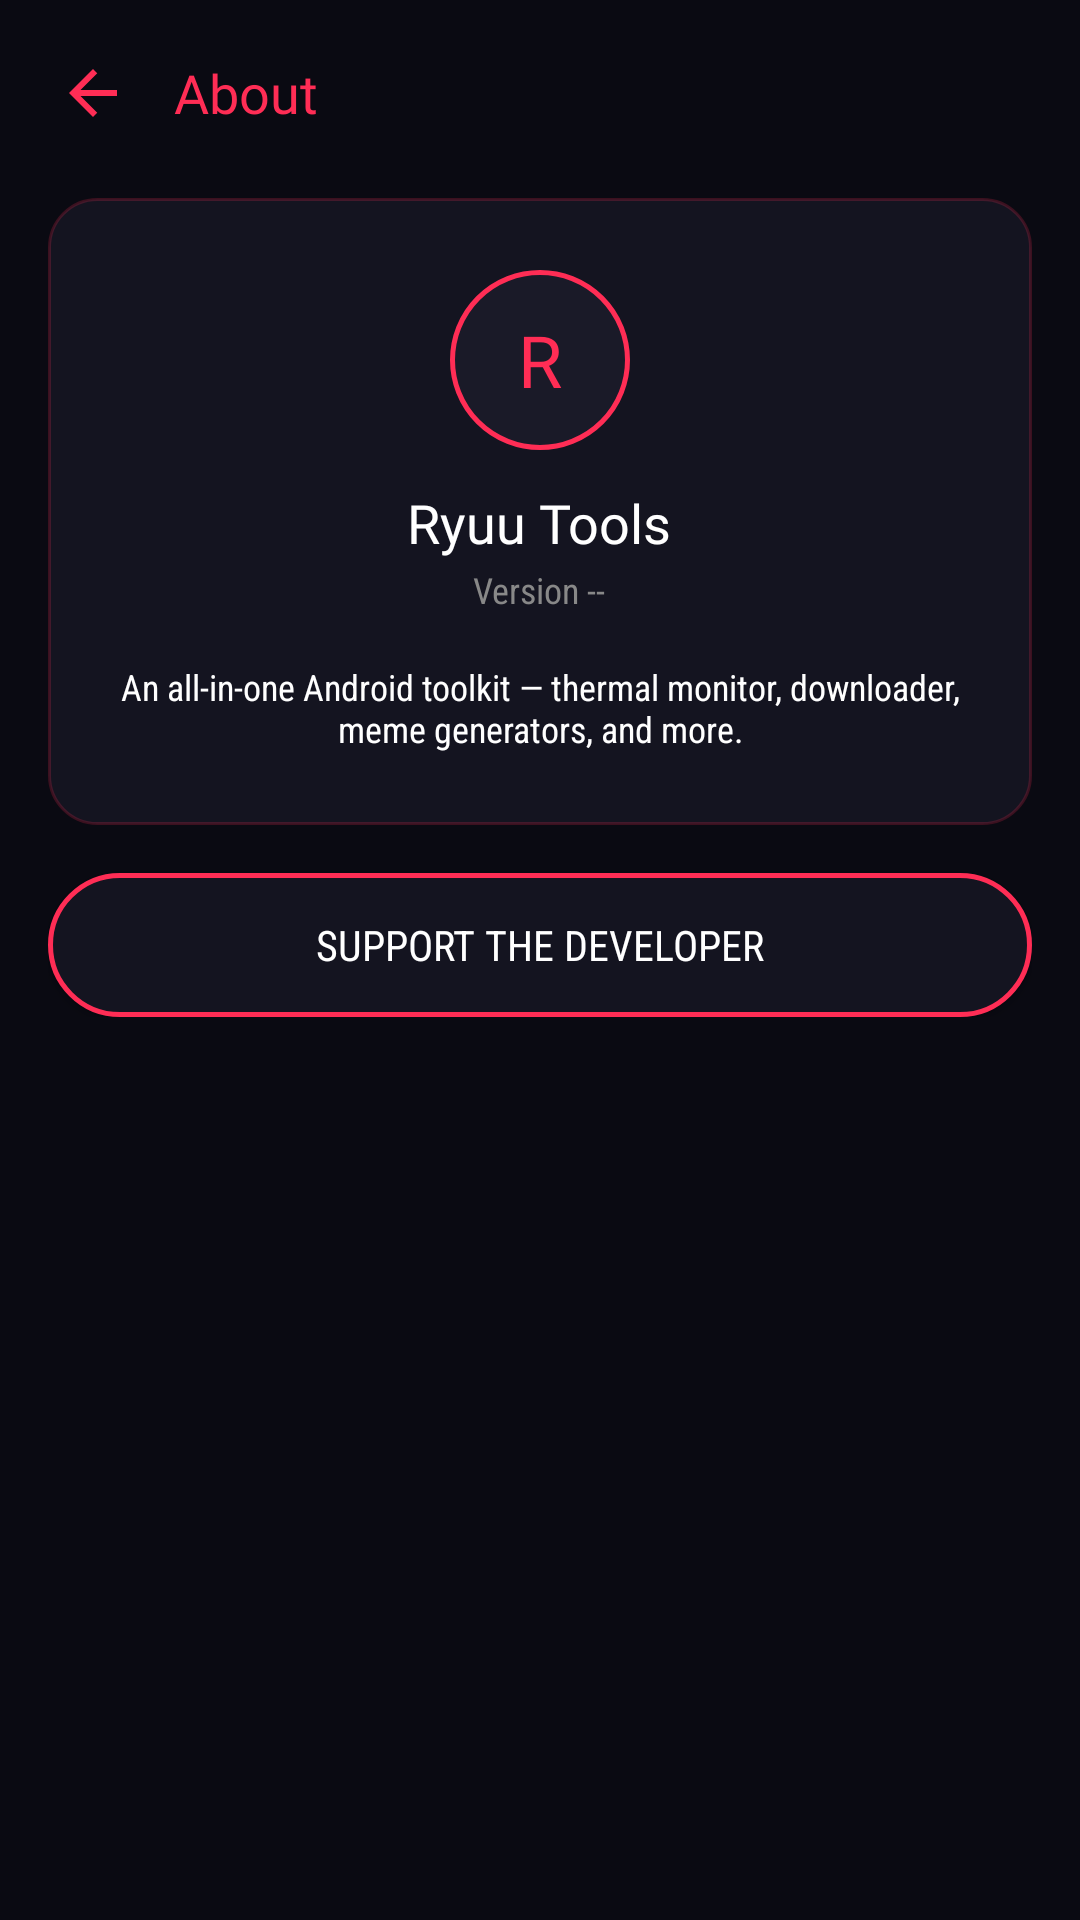

Where to tap for icons on this 1080 × 1920 app screen, as (x=x, y=y):
Back: (x=93, y=93)
